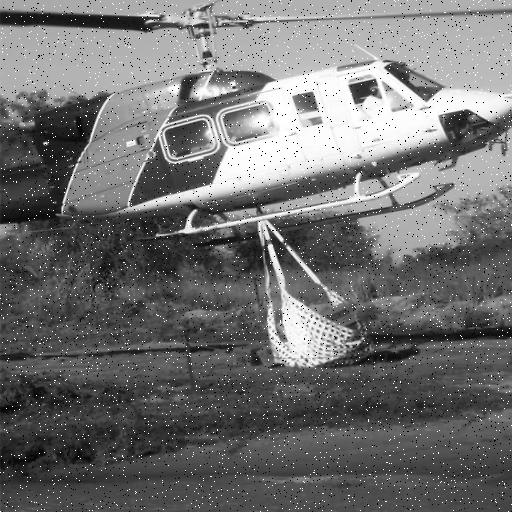helicopter: (101, 104, 512, 248)
